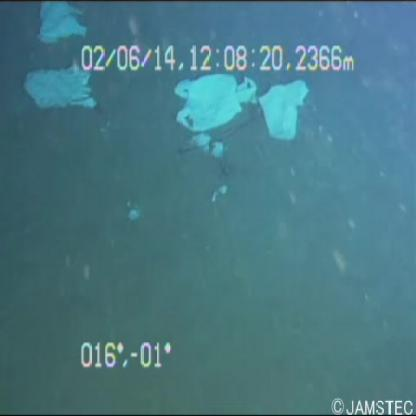Rác: (157, 65, 260, 144), (19, 50, 101, 119), (250, 69, 319, 149)
